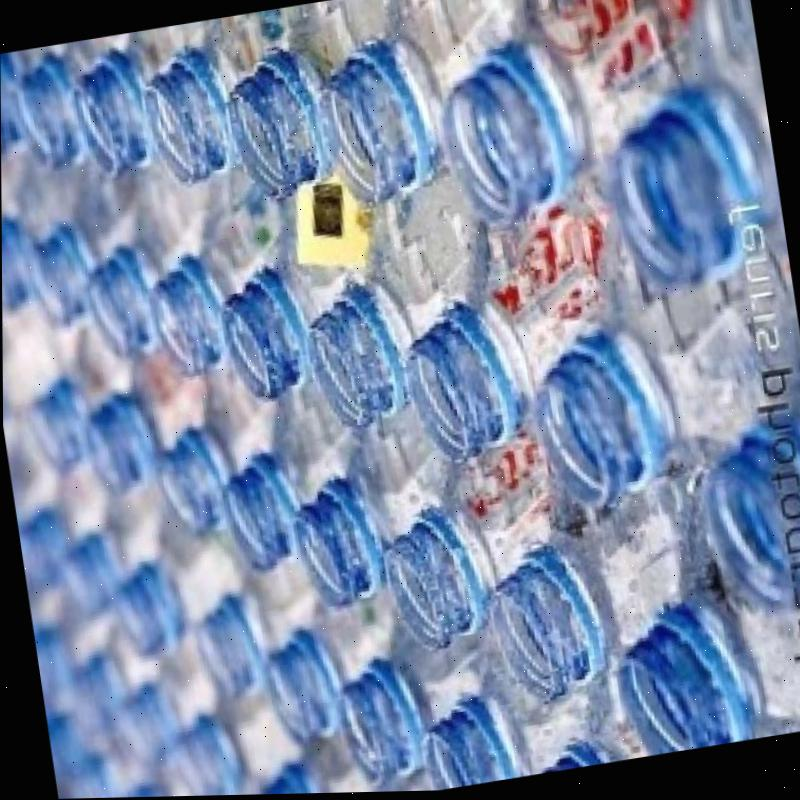botella: (516, 187, 800, 511), (378, 186, 643, 480), (464, 434, 723, 711), (594, 441, 800, 760), (576, 0, 789, 296), (430, 0, 701, 225), (305, 0, 553, 221), (372, 426, 591, 661), (212, 0, 430, 219), (291, 225, 490, 441), (207, 199, 395, 411), (280, 402, 447, 611), (330, 602, 507, 794), (682, 344, 800, 629), (136, 7, 307, 201), (142, 188, 305, 387), (66, 17, 242, 184), (253, 584, 409, 758), (76, 177, 218, 364), (185, 543, 337, 717), (19, 175, 165, 346), (211, 399, 349, 577), (104, 508, 256, 652), (1, 33, 144, 182), (150, 362, 269, 538), (74, 341, 198, 504), (11, 313, 124, 480), (85, 641, 219, 770), (415, 662, 535, 793), (12, 472, 137, 593), (54, 490, 178, 611), (159, 694, 297, 797), (30, 599, 150, 715), (1, 158, 87, 318), (60, 627, 183, 734), (525, 666, 644, 776), (241, 727, 410, 796), (0, 45, 58, 160), (56, 745, 140, 799), (94, 782, 198, 798)
